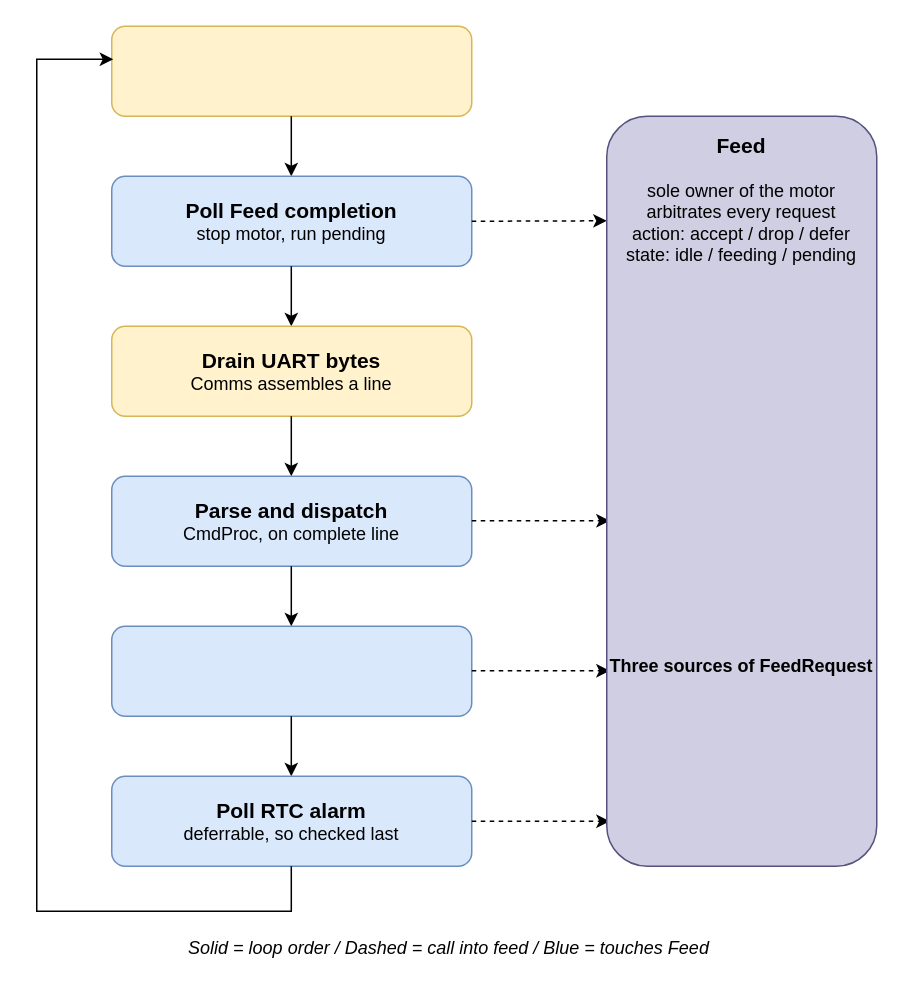
The diagram is 903 pixels wide and 998 high, and some of its shapes have lost their labels. Here are the shapes that lost their labels. From the top down, the centre of each, then its label:
the point at 291,70: Refresh Watchdog IWDG_Refresh()
the point at 291,670: Poll button press and release edge
